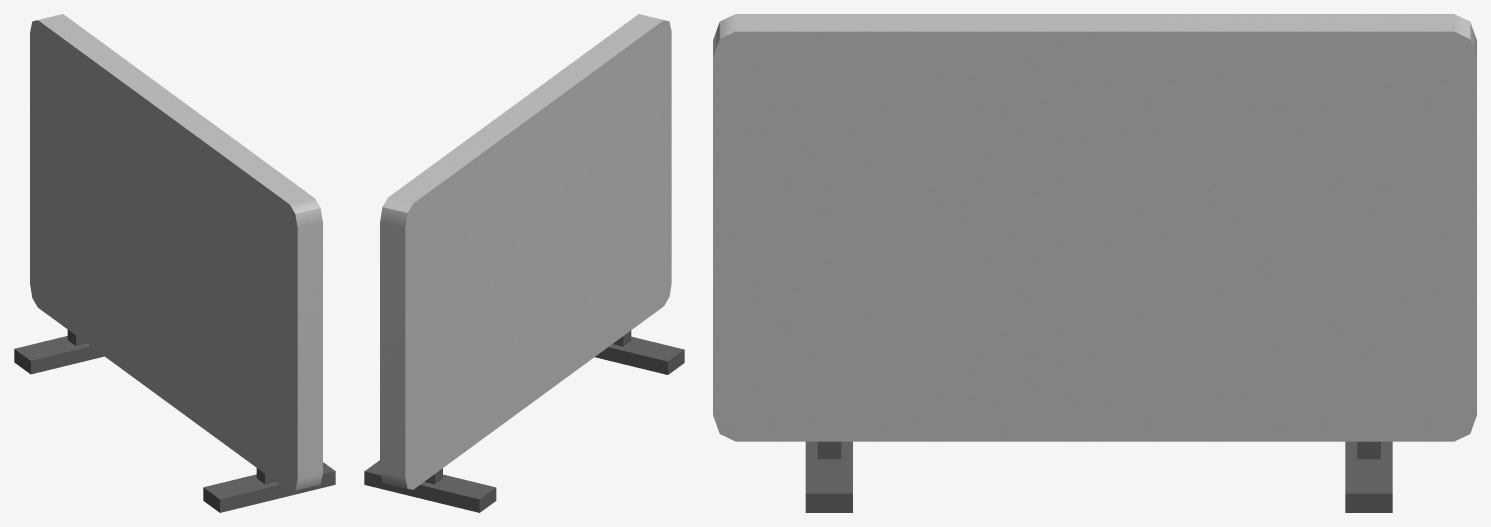
The model's file is SM_cubicle_divider_200.fbx.
The picture shows the model from 3 angles, left to right: view 1: azimuth 30°, elevation 25°; view 2: azimuth 150°, elevation 25°; view 3: azimuth 270°, elevation 25°; orthographic projection. The views are drawn at different scales.
Visible parts, largest first — view 1: polySurface696, polySurface697; view 2: polySurface696, polySurface697; view 3: polySurface696, polySurface697.
Boxes of the visible parts, x1,y1,x2,y2 form: polySurface696: [30, 14, 322, 491]; polySurface697: [14, 330, 335, 512]; polySurface696: [380, 14, 671, 489]; polySurface697: [364, 330, 684, 512]; polySurface696: [713, 14, 1476, 441]; polySurface697: [805, 441, 1392, 512].
Bounding box in the file's own units: 0.4991 × 1.3 × 2.
